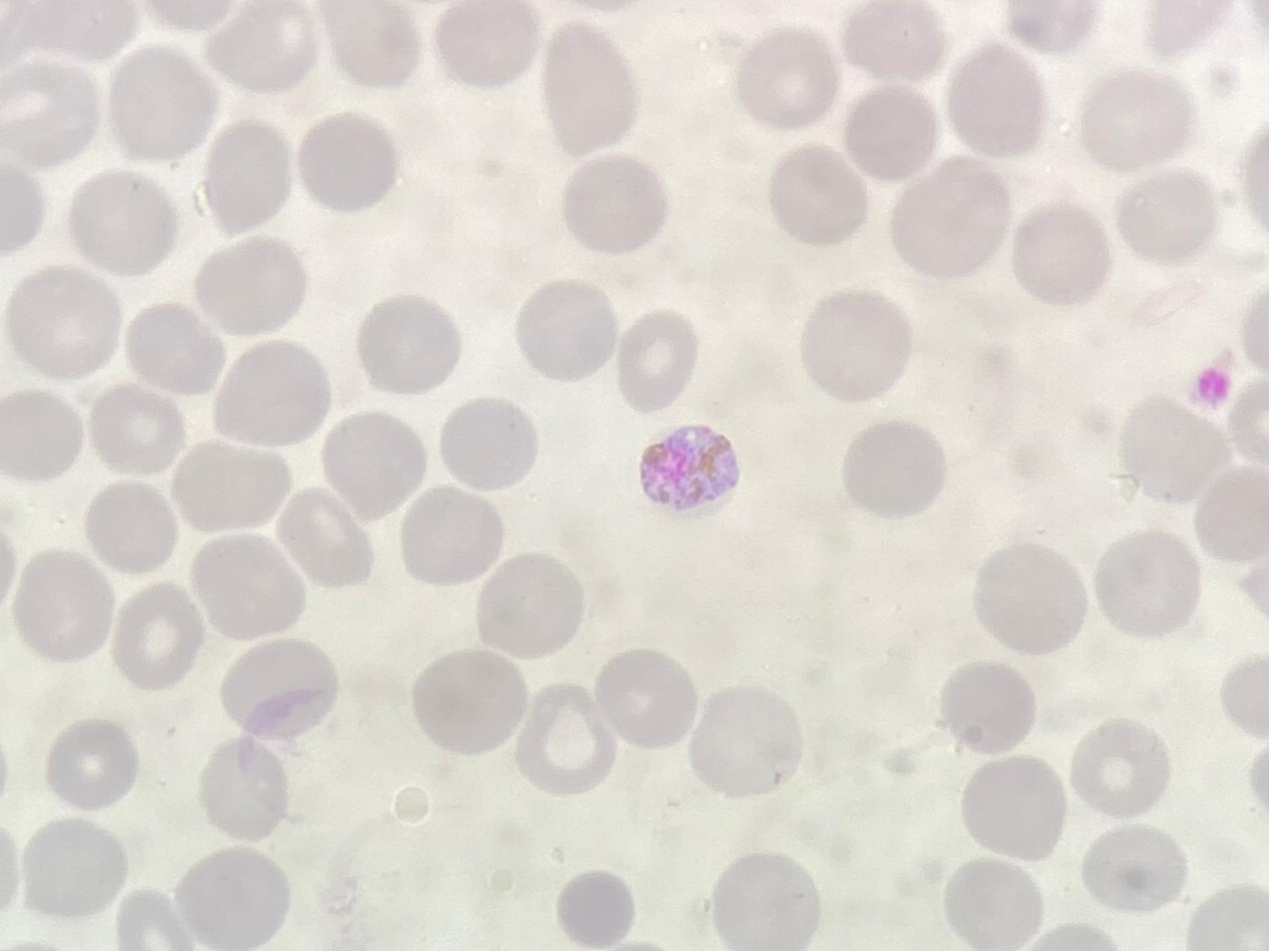Infected: (638, 417, 739, 513)
Uninfected: (886, 161, 1009, 283), (188, 527, 311, 640), (208, 339, 330, 449), (217, 636, 338, 746), (6, 262, 119, 379), (408, 647, 527, 755), (687, 684, 801, 795), (972, 541, 1086, 651), (109, 45, 217, 161), (541, 26, 638, 155), (11, 546, 117, 662), (803, 286, 908, 402), (1, 55, 105, 172), (1117, 394, 1227, 504), (170, 437, 293, 535), (194, 235, 311, 337), (1093, 528, 1201, 638), (1079, 69, 1194, 172), (69, 170, 180, 276), (196, 119, 299, 233), (173, 847, 289, 948), (320, 409, 428, 515), (475, 551, 584, 656), (947, 42, 1044, 159), (20, 816, 128, 921), (957, 755, 1066, 859), (513, 686, 617, 795), (398, 482, 506, 584), (560, 154, 666, 256), (357, 295, 465, 395), (593, 648, 698, 750), (294, 112, 400, 213), (1069, 718, 1173, 820), (1010, 200, 1111, 305), (710, 853, 821, 948), (734, 30, 839, 129), (205, 3, 317, 95), (841, 420, 946, 518), (515, 280, 617, 380), (276, 486, 379, 585), (83, 477, 184, 576), (767, 147, 866, 247), (438, 396, 540, 493), (197, 737, 292, 841), (1080, 821, 1187, 913), (938, 660, 1039, 757), (110, 586, 206, 688), (123, 301, 223, 398), (89, 381, 190, 477), (1114, 171, 1217, 264), (943, 856, 1048, 946), (843, 85, 940, 179), (320, 1, 423, 89), (434, 1, 538, 88), (44, 718, 139, 812), (0, 386, 88, 482), (841, 1, 946, 81), (615, 311, 697, 409), (1190, 466, 1269, 564), (555, 870, 634, 946), (1186, 884, 1269, 948)
